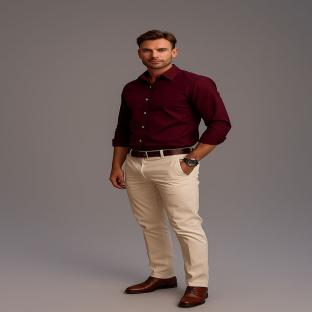Human: (110, 30, 231, 306)
